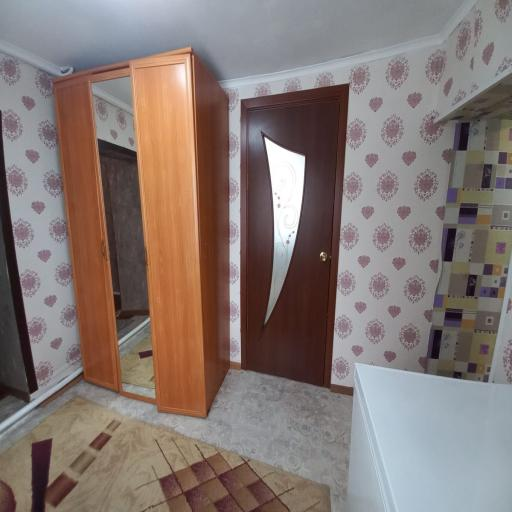car: (55, 49, 229, 416)
corridor: (243, 86, 347, 385)
